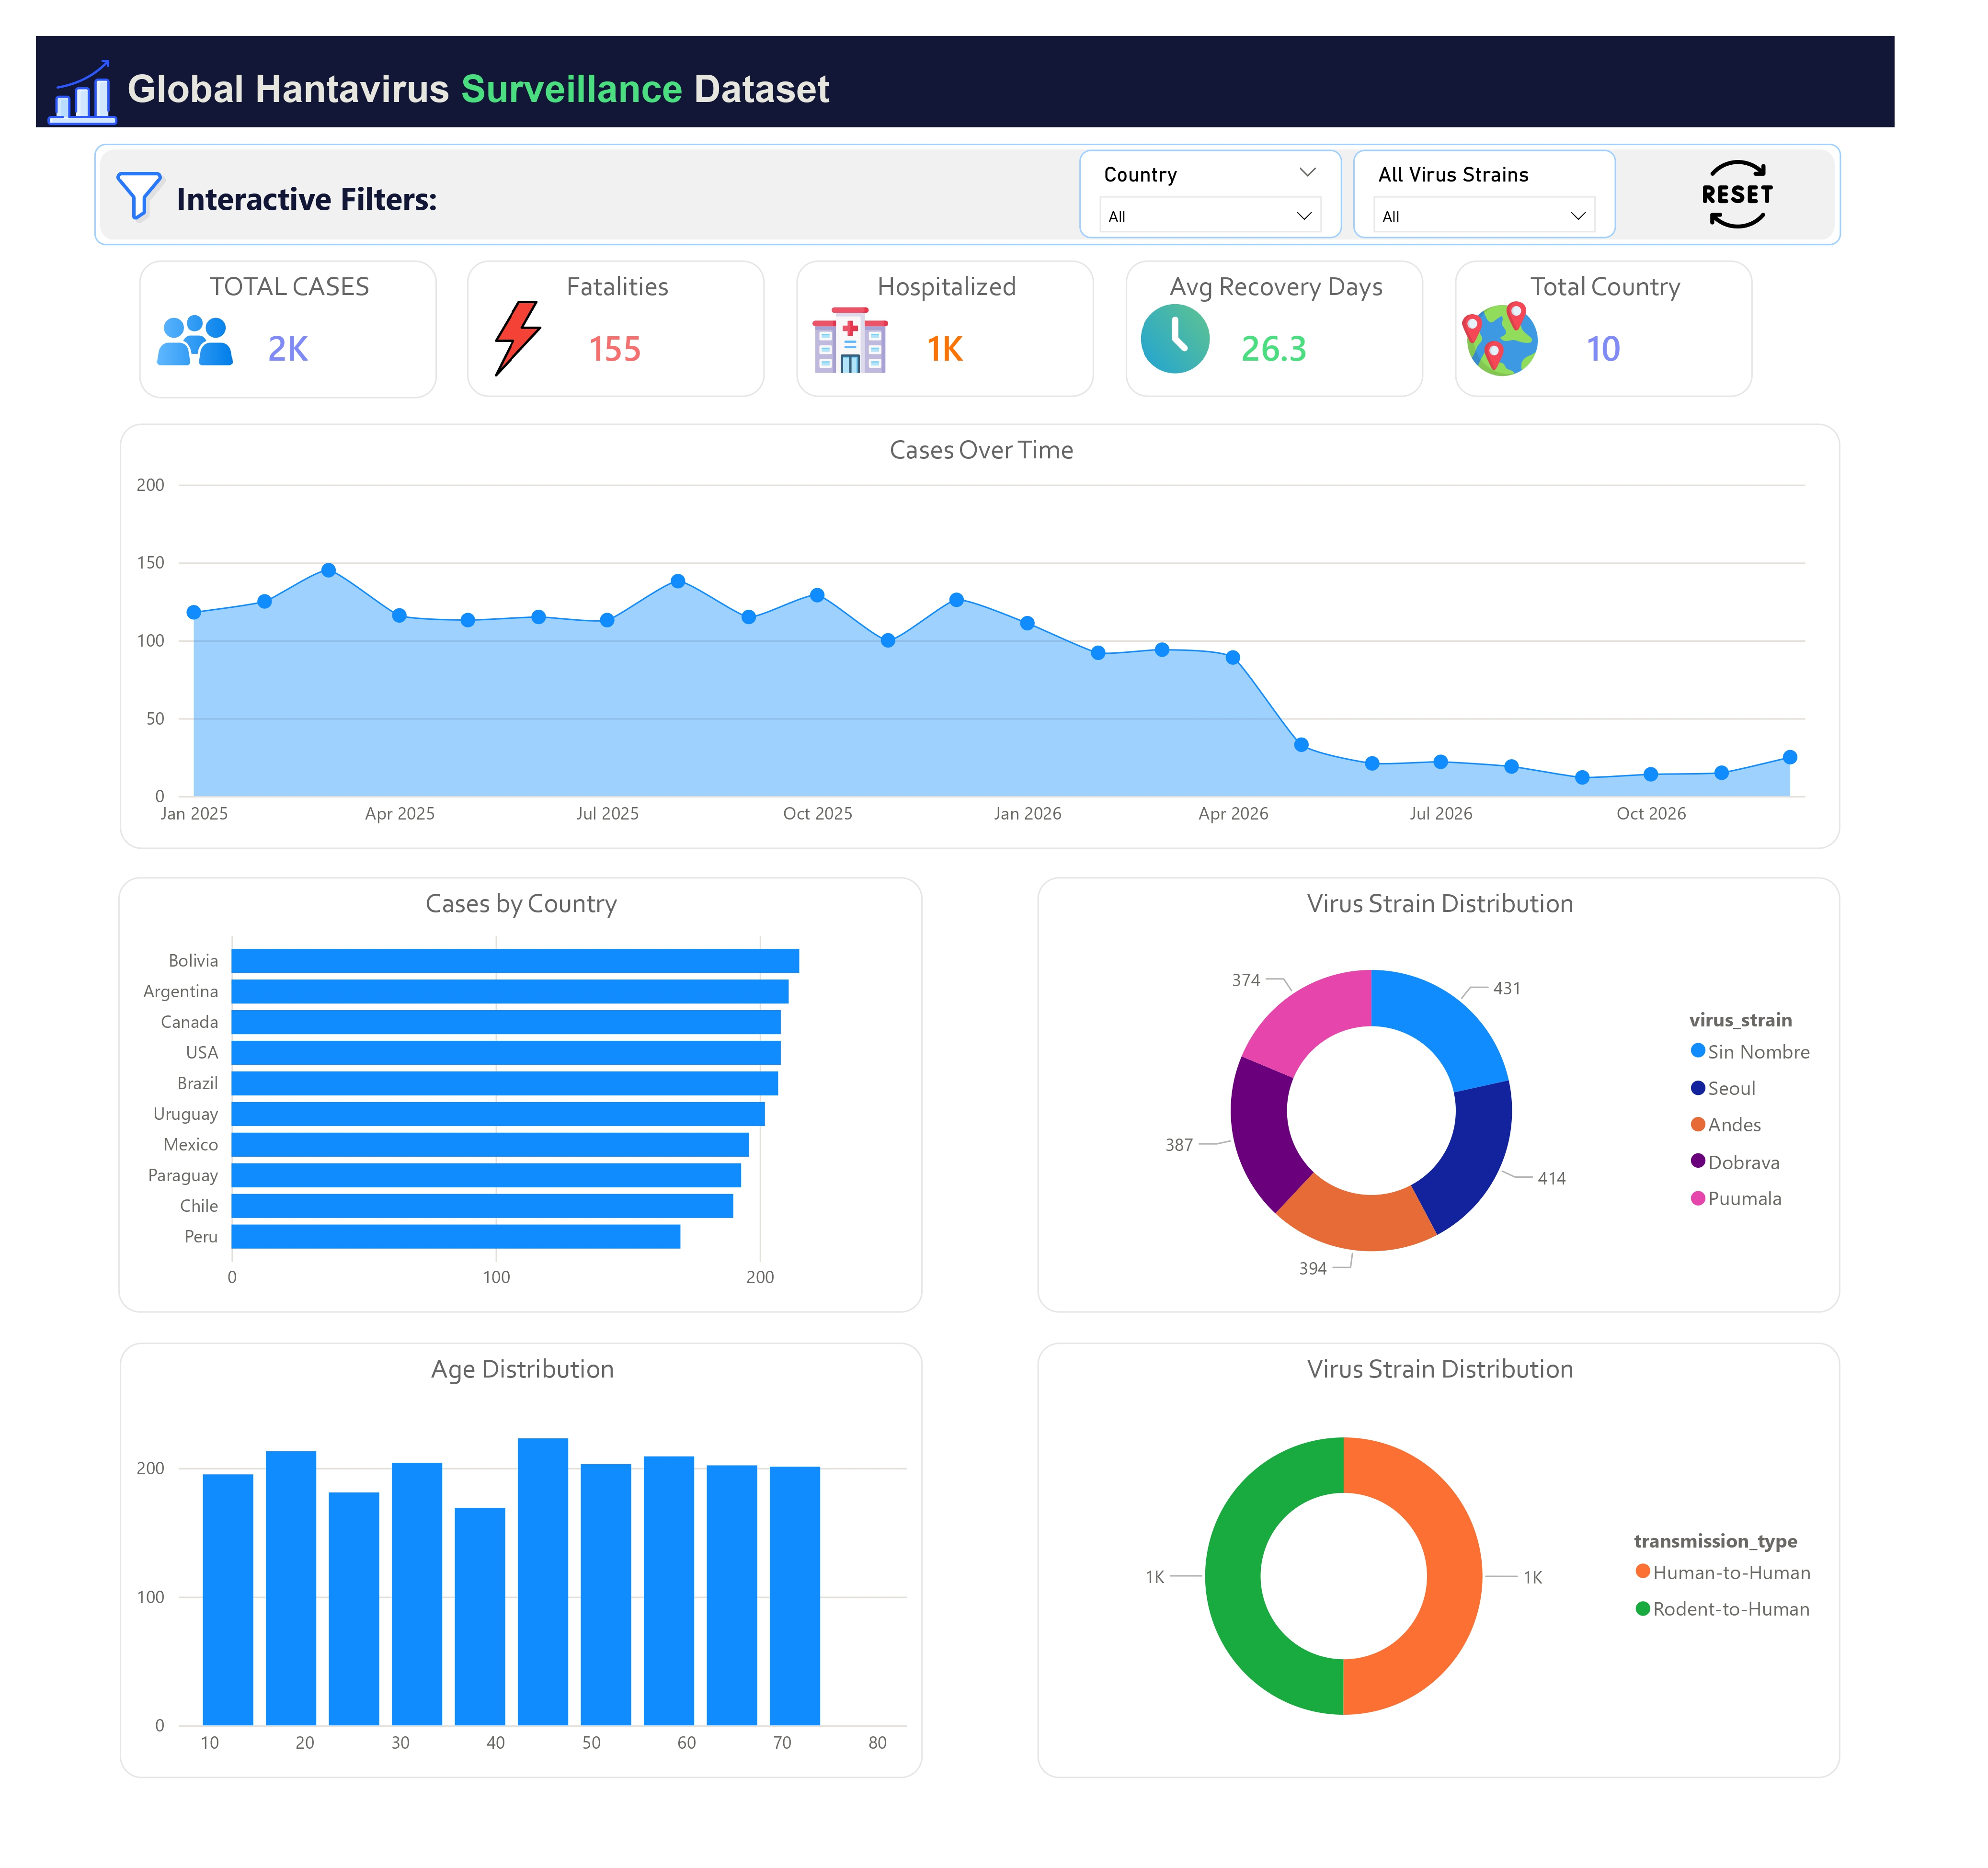

The dashboard page shown, as its layout file describes it:
{"tool":"powerbi","page":{"name":"Page 1","canvas":[1280,1200],"ordinal":0},"visuals":[{"type":"cardVisual","title":"TOTAL CASES","fields":{"Data":["DAXbase.Total Cases"]},"box":[70.9,154.3,205.2,94.6],"z":0},{"type":"cardVisual","title":"Fatalities","fields":{"Data":["DAXbase.Total Fatalities"]},"box":[297.4,154.8,205.2,93.7],"z":1000},{"type":"cardVisual","title":"Hospitalized","fields":{"Data":["DAXbase.Total Hospitalized"]},"box":[523.9,154.8,205.2,93.7],"z":2000},{"type":"cardVisual","title":"Avg Recovery Days","fields":{"Data":["DAXbase.Avg Recovery Days"]},"box":[750.4,154.8,205.2,93.7],"z":3000},{"type":"cardVisual","title":"Total Country","fields":{"Data":["DAXbase.Total Country"]},"box":[976.8,154.8,205.2,93.7],"z":4000},{"type":"areaChart","title":"Cases Over Time","fields":{"Y":["DAXbase.Total Cases"],"Category":["global_hantavirus_surveillance_dataset_2026.report_date.Variation.Date Hierarchy.Year","global_hantavirus_surveillance_dataset_2026.report_date.Variation.Date Hierarchy.Month"]},"box":[57.4,266.8,1185.4,293],"z":5000},{"type":"shape","box":[0,0,1280,62.9],"z":6000},{"type":"textbox","box":[57.6,16.1,514.4,44.1],"z":7000},{"type":"image","box":[0,15.3,64.4,47.5],"z":8000},{"type":"shape","box":[40.7,73.7,1202.5,70.3],"z":9000},{"type":"textbox","box":[91.8,91.8,205.5,42.7],"z":10000},{"type":"image","box":[40.7,88.1,64.4,47.5],"z":11000},{"type":"slicer","fields":{"Values":["global_hantavirus_surveillance_dataset_2026.virus_strain"]},"box":[907.6,78.8,180.5,61],"z":12000},{"type":"slicer","fields":{"Values":["global_hantavirus_surveillance_dataset_2026.country"]},"box":[718.6,78.8,180.5,61],"z":13000},{"type":"image","box":[1139.8,85.6,64.4,47.5],"z":14000},{"type":"image","box":[78.5,183.2,62.5,52.3],"z":15000},{"type":"image","box":[301.4,182.4,62.5,52.3],"z":16000},{"type":"image","box":[530.2,183.2,62.5,52.3],"z":17000},{"type":"image","box":[753.1,182.4,62.5,52.3],"z":18000},{"type":"image","box":[977.7,182.4,62.5,52.3],"z":19000},{"type":"barChart","title":"Cases by Country","fields":{"Category":["global_hantavirus_surveillance_dataset_2026.country"],"Y":["CountNonNull(global_hantavirus_surveillance_dataset_2026.case_id)"]},"box":[57.1,579.1,553.6,300],"z":20000},{"type":"donutChart","title":"Virus Strain Distribution","fields":{"Y":["CountNonNull(global_hantavirus_surveillance_dataset_2026.virus_strain)"],"Category":["global_hantavirus_surveillance_dataset_2026.virus_strain"]},"box":[690,579.1,553,300],"z":21000},{"type":"clusteredColumnChart","title":"Age Distribution","fields":{"Category":["global_hantavirus_surveillance_dataset_2026.patient_age (bins)"],"Y":["DAXbase.Total Cases"]},"box":[57.4,900,553,300],"z":22000},{"type":"donutChart","title":"Virus Strain Distribution","fields":{"Category":["global_hantavirus_surveillance_dataset_2026.transmission_type"],"Y":["CountNonNull(global_hantavirus_surveillance_dataset_2026.transmission_type)"]},"box":[690,900,553,300],"z":23000}]}

Visuals, with their boxes in screenshot pixels (x1, y1, x2, y2), scaled from the page's 1280x1200 canvas onto the 1988x1868 screenshot:
"TOTAL CASES" cardVisual: locate(110, 240, 429, 387)
"Fatalities" cardVisual: locate(462, 241, 781, 387)
"Hospitalized" cardVisual: locate(814, 241, 1132, 387)
"Avg Recovery Days" cardVisual: locate(1165, 241, 1484, 387)
"Total Country" cardVisual: locate(1517, 241, 1836, 387)
"Cases Over Time" areaChart: locate(89, 415, 1930, 871)
shape: locate(0, 0, 1988, 98)
textbox: locate(90, 25, 889, 94)
image: locate(0, 24, 100, 98)
shape: locate(63, 115, 1931, 224)
textbox: locate(143, 143, 462, 209)
image: locate(63, 137, 163, 211)
slicer - global_hantavirus_surveillance_dataset_2026.virus_strain: locate(1410, 123, 1690, 217)
slicer - global_hantavirus_surveillance_dataset_2026.country: locate(1116, 123, 1396, 217)
image: locate(1770, 133, 1870, 207)
image: locate(122, 285, 219, 366)
image: locate(468, 284, 565, 365)
image: locate(823, 285, 921, 366)
image: locate(1170, 284, 1267, 365)
image: locate(1519, 284, 1616, 365)
"Cases by Country" barChart: locate(89, 901, 948, 1368)
"Virus Strain Distribution" donutChart: locate(1072, 901, 1931, 1368)
"Age Distribution" clusteredColumnChart: locate(89, 1401, 948, 1868)
"Virus Strain Distribution" donutChart: locate(1072, 1401, 1931, 1868)
